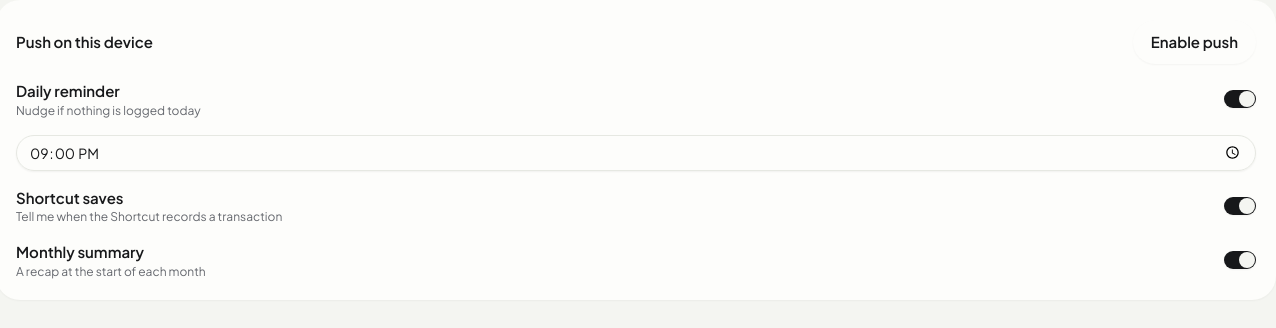
Test: NotificationSettings › shows a 503 message from subscribe
Click the button "Enable push" at (1194,42), box x1=1133 y1=20 x2=1256 y2=64
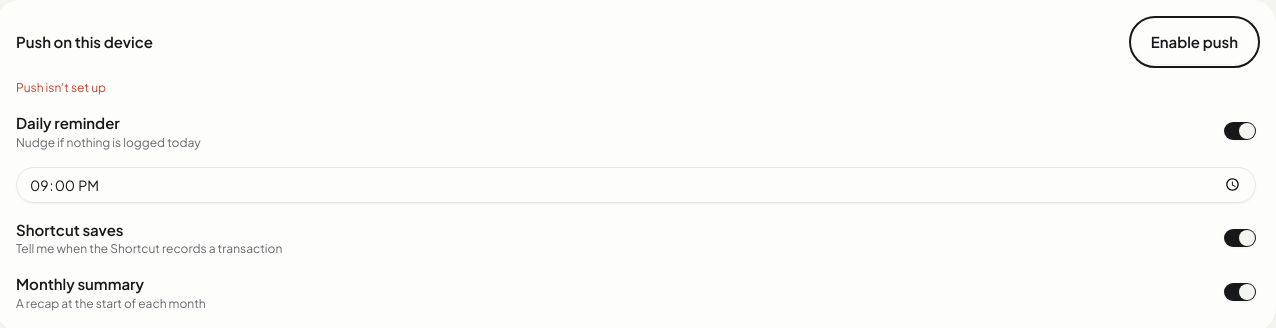
Now the message reads "Push isn't set up", box x1=16 y1=80 x2=106 y2=95
